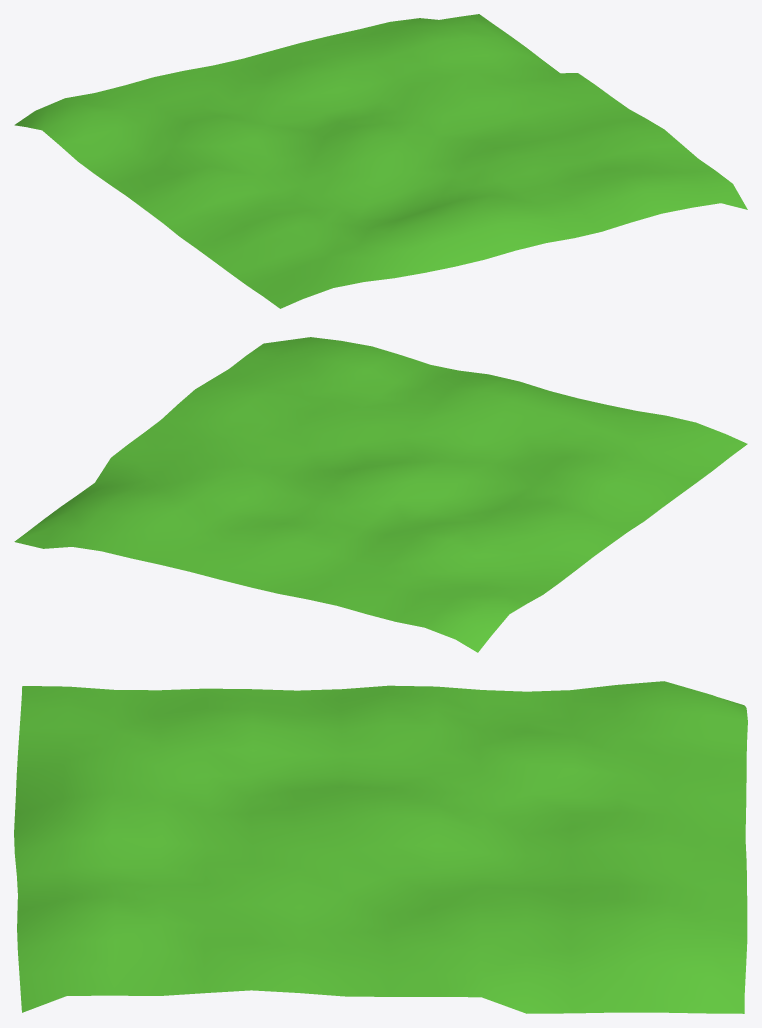
Rendered from cloud.fbx.
3 views of the same model, one above another, from view 1: azimuth 30°, elevation 25°; view 2: azimuth 150°, elevation 25°; view 3: azimuth 270°, elevation 25° (orthographic). The views are drawn at different scales.
Visible parts, largest first — view 1: button001; view 2: button001; view 3: button001.
Part boxes in pixels (box(x1,y1,x2,y2)): button001: box(14, 14, 747, 308); button001: box(14, 337, 747, 652); button001: box(14, 681, 747, 1013).
Bounding box in the file's own units: 1.99 × 2 × 0.1463.
